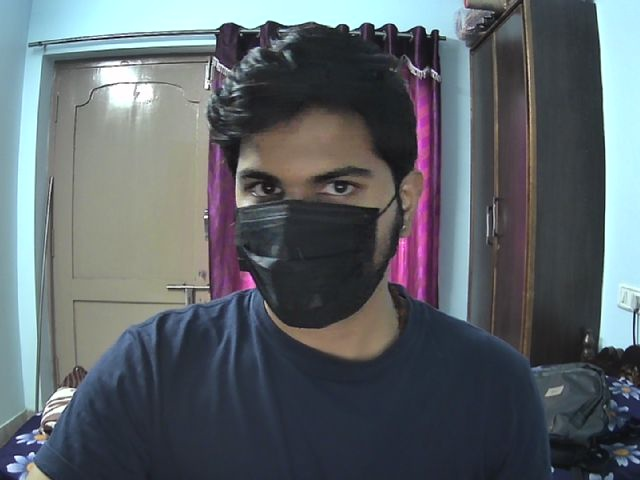Mask: (236, 201, 397, 328)
